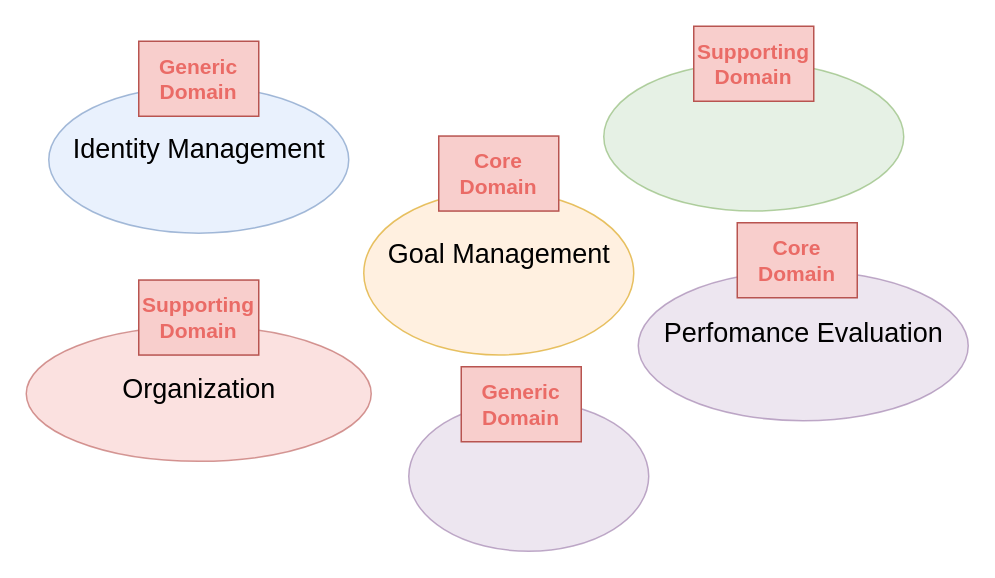
The diagram is 995 pixels wide and 578 high, and some of its shapes have lost their labels. The box of each missing label's shape, as (x1, y1, x2, y2) in pixels:
Feedback: (602, 61, 904, 211)
Notification: (407, 400, 649, 551)
